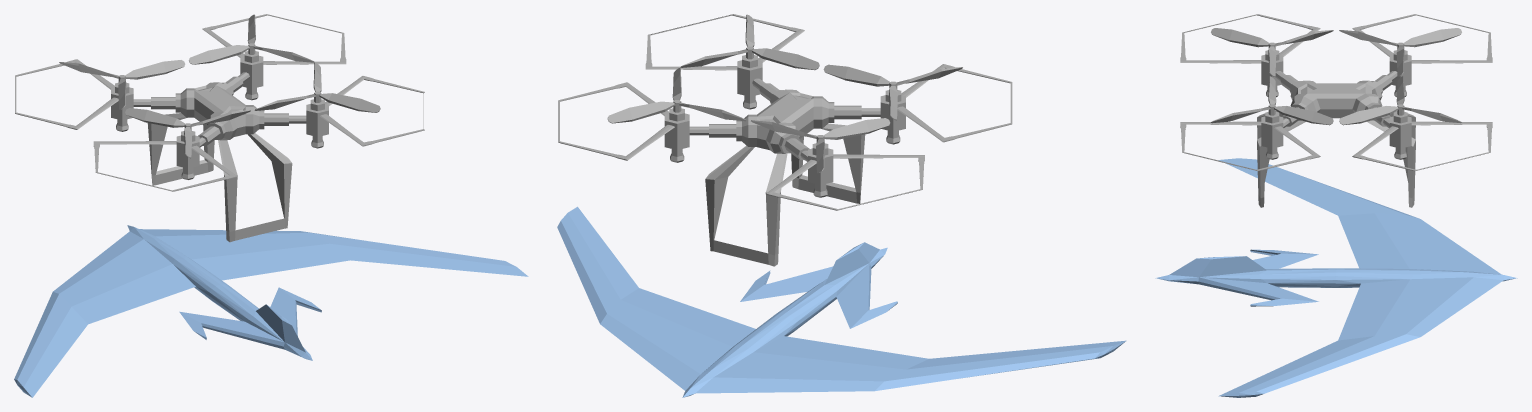
File: both 2i.glb
The picture shows the model from 3 angles, left to right: view 1: azimuth 30°, elevation 25°; view 2: azimuth 150°, elevation 25°; view 3: azimuth 270°, elevation 25°; orthographic projection. The views are drawn at different scales.
Parts seen in each view (by area): view 1: GeoSphere004, dron; view 2: GeoSphere004, dron; view 3: GeoSphere004, dron.
Boxes of the visible parts, box(x1,y1,x2,y2) form: GeoSphere004: box(14, 225, 528, 397); dron: box(15, 14, 424, 242); GeoSphere004: box(557, 206, 1126, 397); dron: box(558, 14, 1012, 266); GeoSphere004: box(1155, 158, 1517, 397); dron: box(1180, 14, 1492, 207).
Size of the model in its own units: 8.71 by 3.7 by 5.65.
